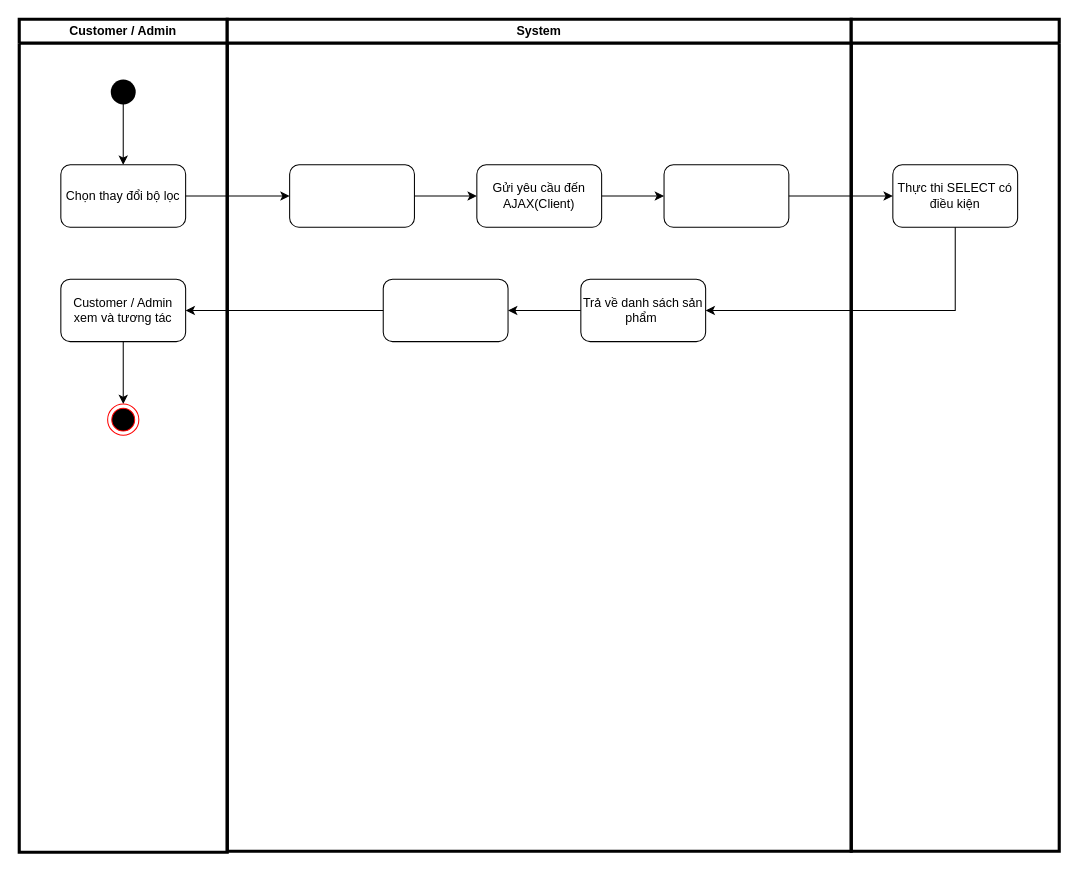
This 1078x872 diagram has some shape labels left out. Here are the shapes that lost their labels. From the top down, the box of each, then its label:
(289, 164, 414, 227): Thu nhập điều kiện lọc
(663, 164, 789, 227): Nhận điều kiện và truy vấn Server
(382, 278, 508, 342): Cập nhật giao diện
(849, 17, 1060, 852): Database
